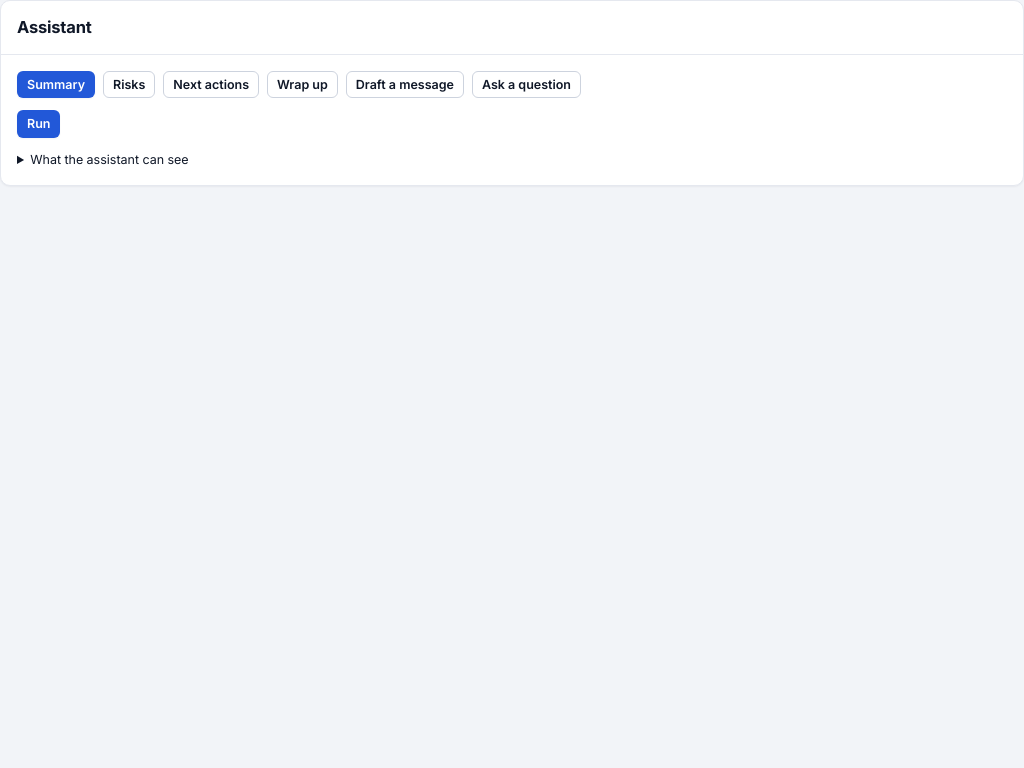
Test: AssistPanel › shows a draft read-only, with no send control
The image size is (1024, 768).
Click the button "Draft a message" at (405, 84), box left=346, top=71, right=464, bottom=98
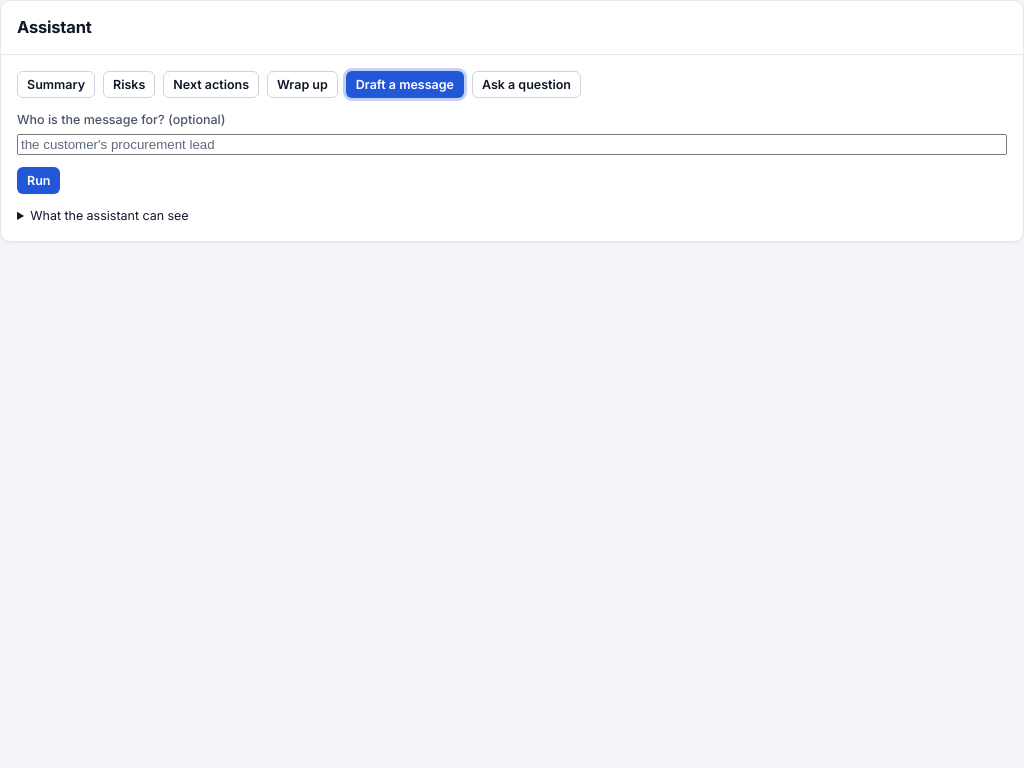
Click the button "Run" at (39, 180), box left=17, top=166, right=60, bottom=194
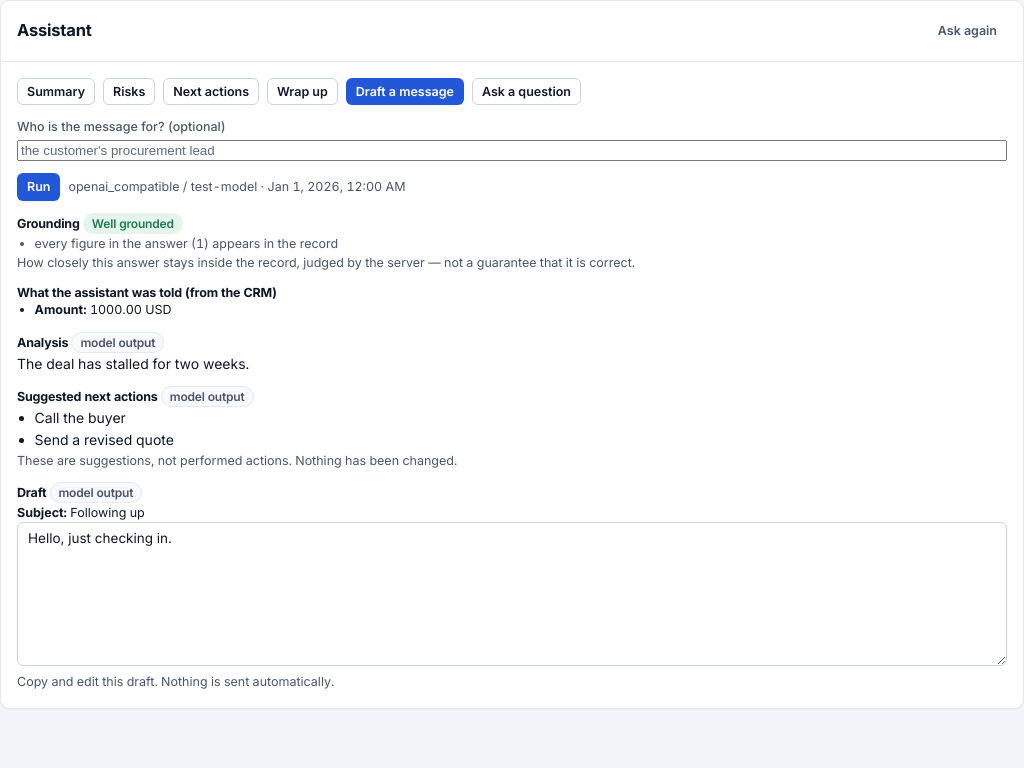
Expected: the text "Copy and edit this draft. Nothing is sent automatically." is shown, left=17, top=674, right=334, bottom=689
